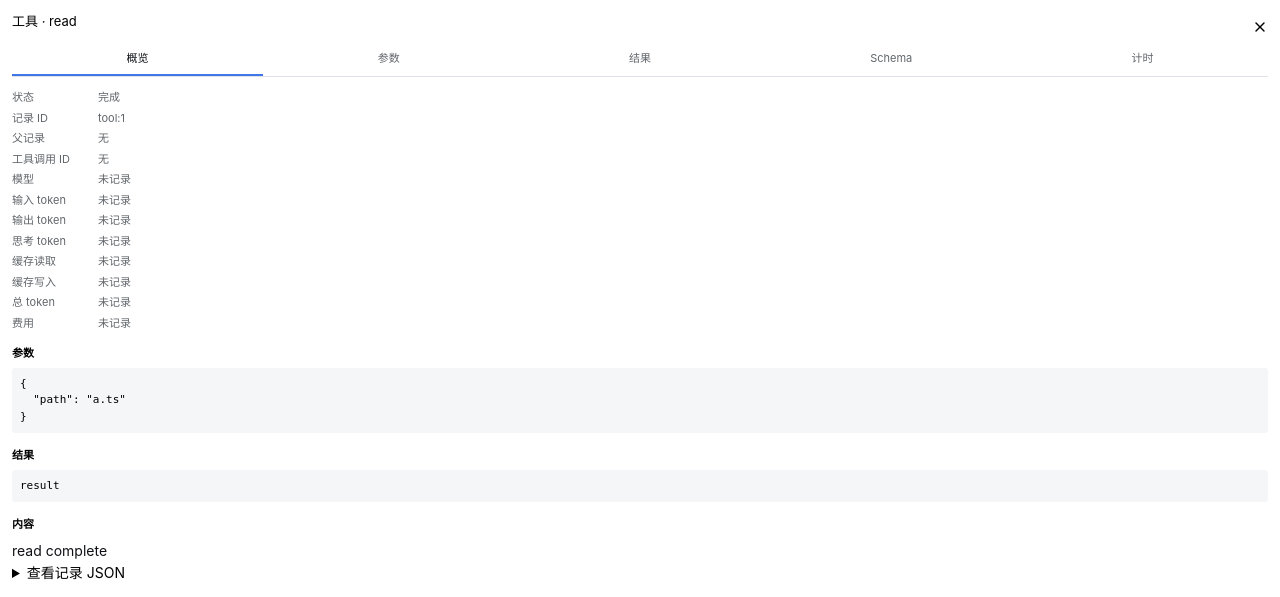
Scenario: trajectory inspector › does not invent a schema from the observed arguments
The width and height of the screenshot is (1280, 597).
Click the tab "Schema". click: coordinates (891, 59)
box: [766, 42, 1017, 76]
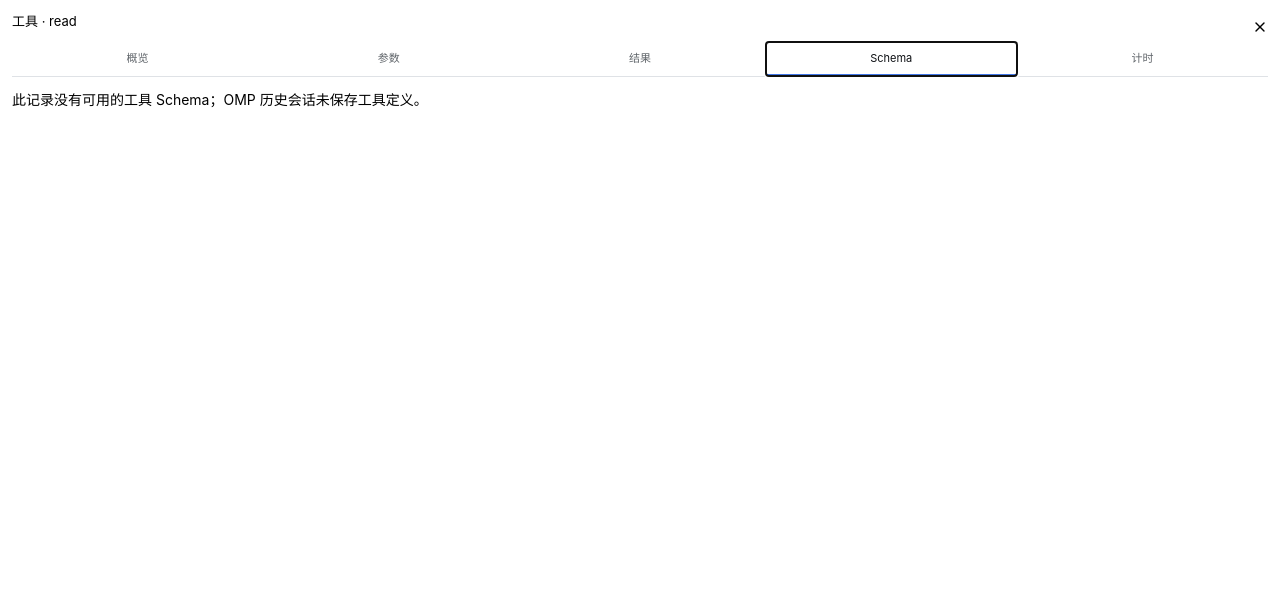
Now the panel shows "没有可用的工具 Schema", box [12, 91, 428, 108]
